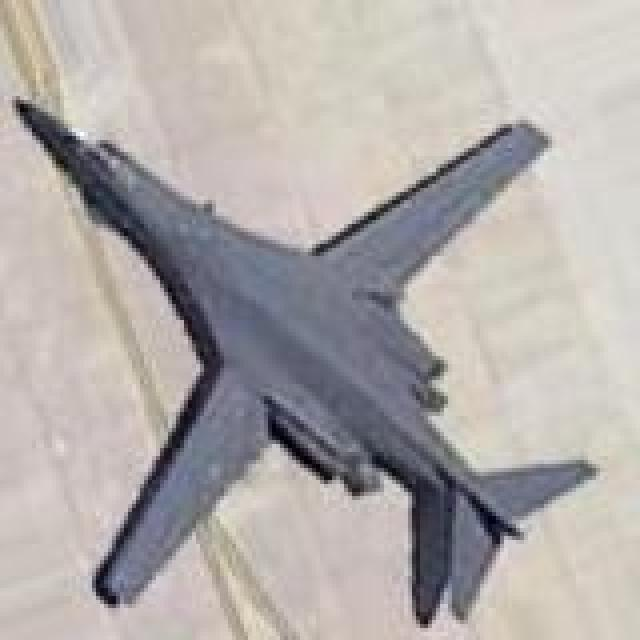B-1_TopDown: (8, 88, 596, 624)
